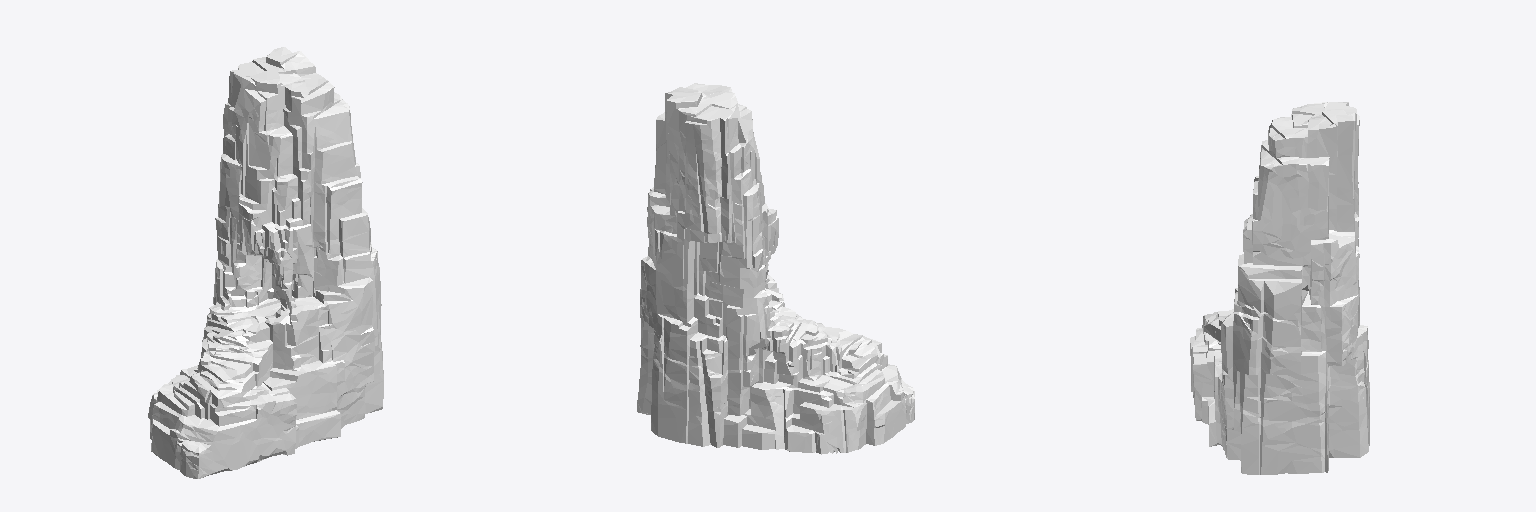
File: sceneObjects.obj
3 views of the same model, side by side, from view 1: azimuth 30°, elevation 25°; view 2: azimuth 150°, elevation 25°; view 3: azimuth 270°, elevation 25° (orthographic).
Visible parts, largest first — view 1: gate; view 2: gate; view 3: gate.
Boxes of the visible parts, x1,y1,x2,y2 form: gate: [148, 47, 383, 478]; gate: [637, 83, 914, 454]; gate: [1190, 102, 1369, 474].
Bounding box in the file's own units: 22.1 × 31.95 × 15.59.